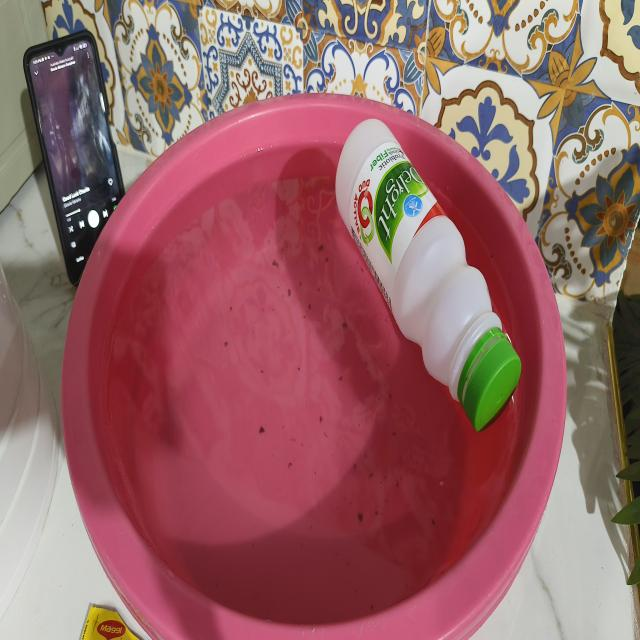Plastic Bottle: (336, 119, 521, 431)
